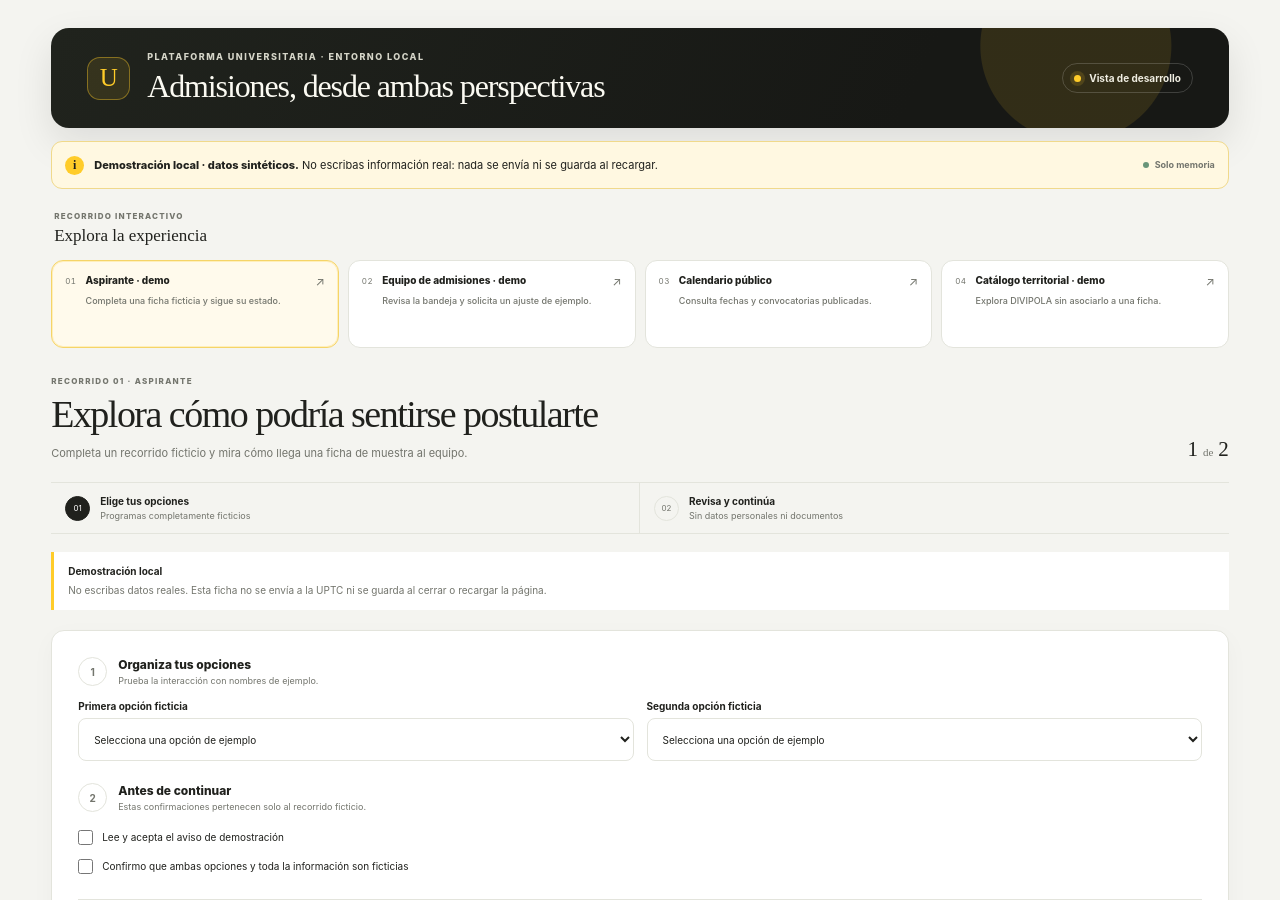
Test: AdmissionsWorkflowLab › presents aspirant and admissions-team journeys as clear, selectable entry cards
Click the tab "Equipo de admisiones · demo": x=492, y=304 [348,260,636,348]
(page scrolled)
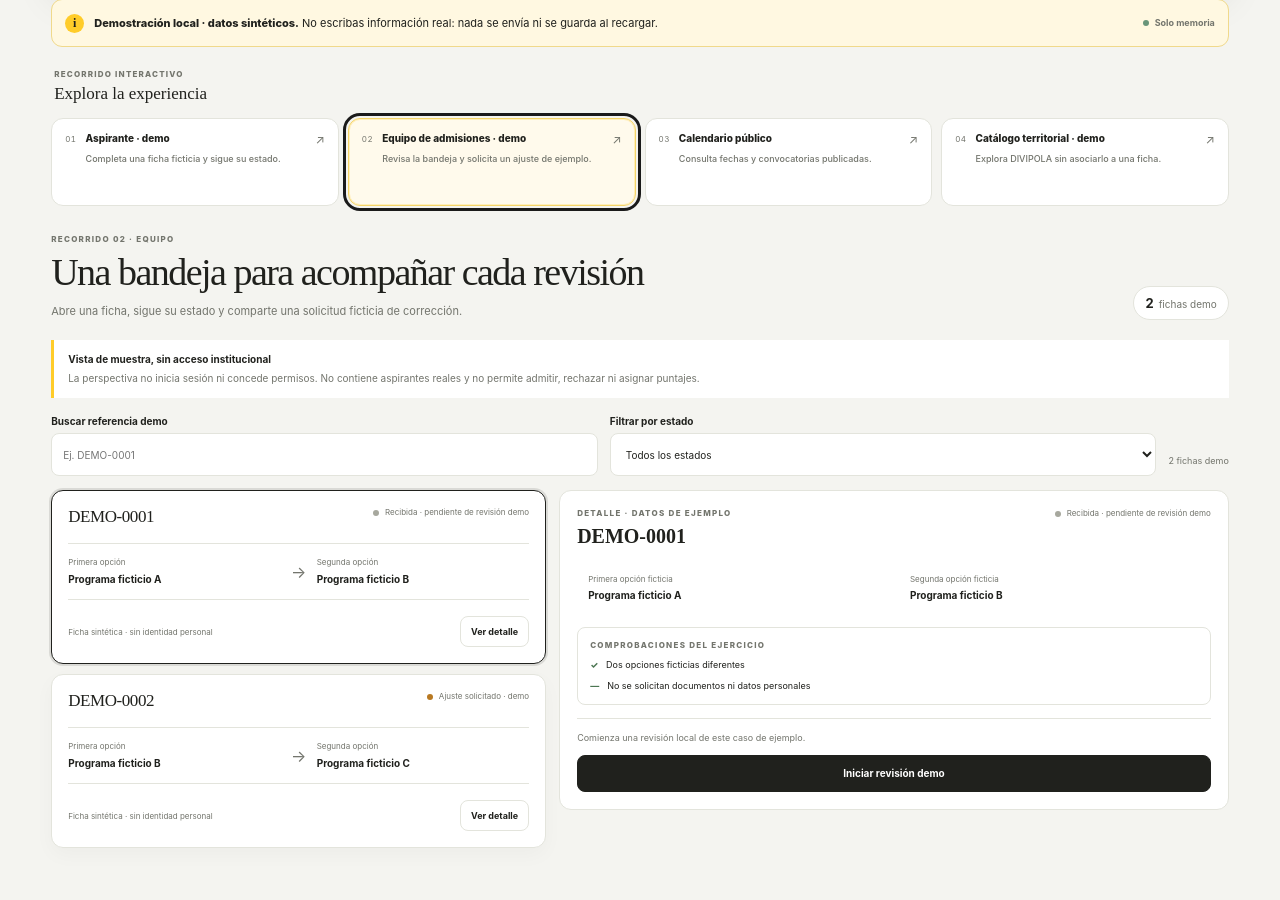
Expected: the tab "Aspirante · demo" is shown, [51,118,339,206]
Expected: the element named "bandeja ficticia" is shown, [51,415,1229,848]
